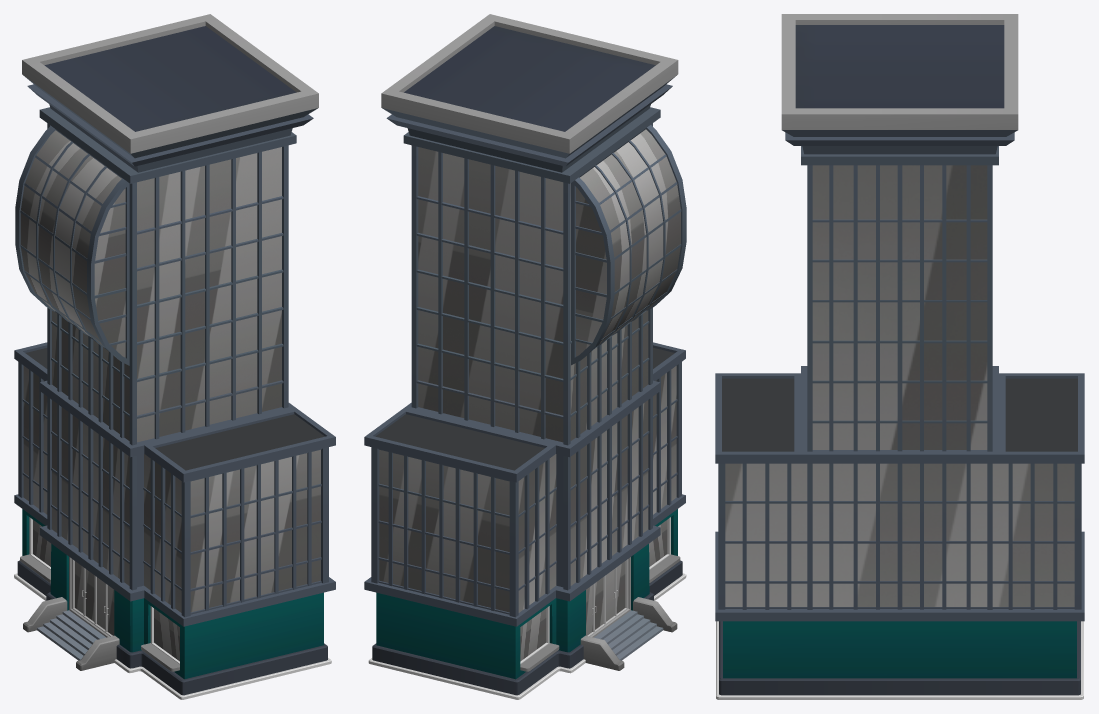
File: Building_15_D.fbx
3 renders of one model, left to right at view 1: azimuth 30°, elevation 25°; view 2: azimuth 150°, elevation 25°; view 3: azimuth 270°, elevation 25°, orthographic. The views are drawn at different scales.
Parts seen in each view (by area): view 1: Building_15_D; view 2: Building_15_D; view 3: Building_15_D.
Boxes of the visible parts, x1,y1,x2,y2 form: Building_15_D: [14, 14, 335, 699]; Building_15_D: [364, 14, 686, 699]; Building_15_D: [715, 14, 1084, 699].
Size of the model in its own units: 860 by 2100 by 1183.
